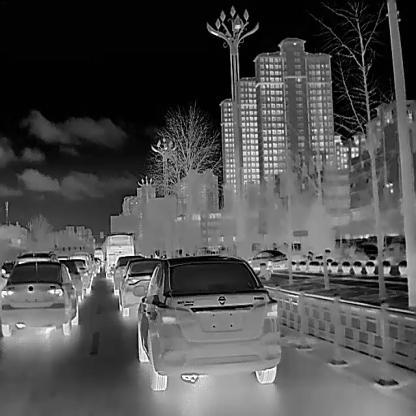car: (129, 251, 282, 390), (0, 259, 79, 336), (112, 257, 164, 316), (102, 231, 135, 280), (58, 254, 91, 301), (246, 248, 287, 269)
